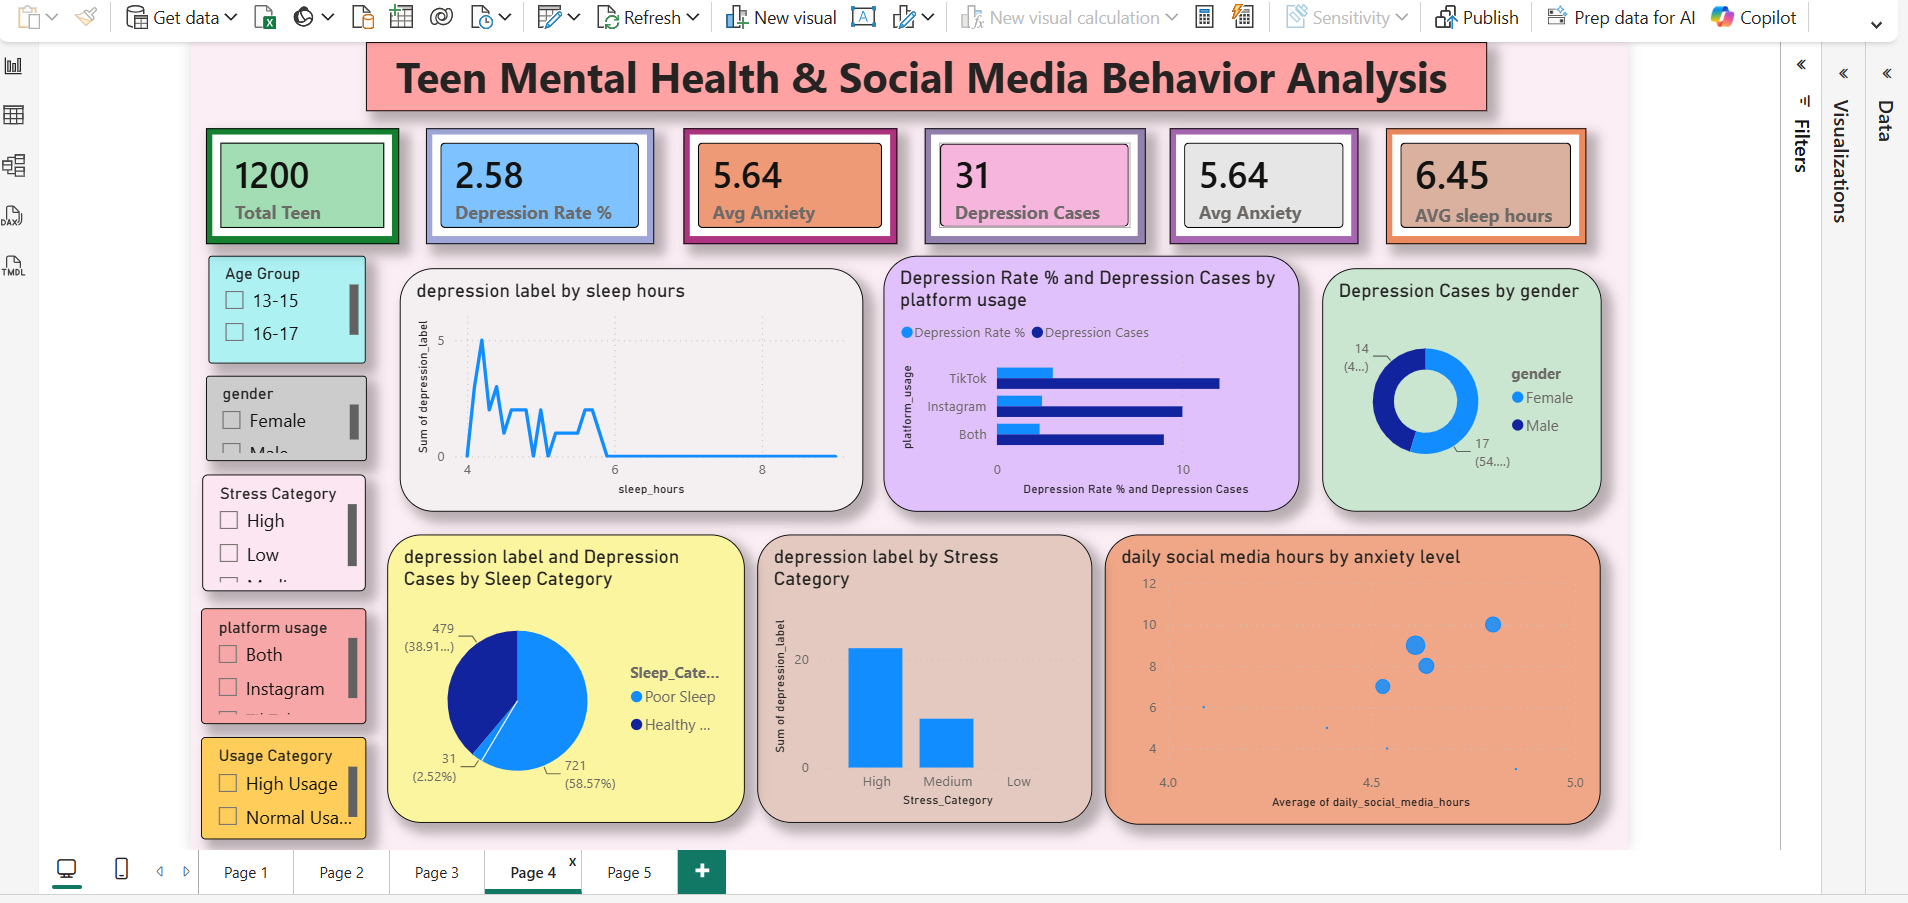

The dashboard page shown, as its layout file describes it:
{"tool":"powerbi","page":{"name":"Page 4","canvas":[1280,720],"ordinal":3},"visuals":[{"type":"cardVisual","fields":{"Data":["Teen_Mental_Health_Dataset.Total Teen"]},"box":[12.9,77.1,172.2,102.8],"z":0},{"type":"cardVisual","fields":{"Data":["Teen_Mental_Health_Dataset.Avg Anxiety"]},"box":[438.3,77.1,190.2,102.8],"z":1000},{"type":"cardVisual","fields":{"Data":["Teen_Mental_Health_Dataset.AVG sleep hours"]},"box":[1064.3,77.1,178.7,102.8],"z":2000},{"type":"cardVisual","fields":{"Data":["Teen_Mental_Health_Dataset.Avg Anxiety"]},"box":[871.5,77.1,168.4,102.8],"z":3000},{"type":"cardVisual","fields":{"Data":["Teen_Mental_Health_Dataset.Depression Rate %"]},"box":[209.5,77.1,203.1,102.8],"z":4000},{"type":"cardVisual","fields":{"Data":["Teen_Mental_Health_Dataset.Depression Cases"]},"box":[653,77.1,196.7,102.8],"z":5000},{"type":"slicer","fields":{"Values":["Teen_Mental_Health_Dataset.Age_Group"]},"box":[15.7,190,140,95.7],"z":6000},{"type":"slicer","fields":{"Values":["Teen_Mental_Health_Dataset.gender"]},"box":[12.9,297.1,142.9,75.7],"z":7000},{"type":"slicer","fields":{"Values":["Teen_Mental_Health_Dataset.Stress_Category"]},"box":[10,385.7,145.7,104.3],"z":8000},{"type":"slicer","fields":{"Values":["Teen_Mental_Health_Dataset.platform_usage"]},"box":[8.6,504.3,147.1,102.9],"z":9000},{"type":"pieChart","title":" depression label and Depression Cases by Sleep Category","fields":{"Category":["Teen_Mental_Health_Dataset.Sleep_Category"],"Y":["CountNonNull(Teen_Mental_Health_Dataset.depression_label)","Teen_Mental_Health_Dataset.Depression Cases"]},"box":[174.3,438.6,318.6,257.1],"z":10000},{"type":"scatterChart","title":"daily social media hours by anxiety level","fields":{"X":["Avg(Teen_Mental_Health_Dataset.daily_social_media_hours)"],"Size":["Sum(Teen_Mental_Health_Dataset.depression_label)"],"Y":["Teen_Mental_Health_Dataset.anxiety_level"]},"box":[814.3,438.6,441.4,258.6],"z":11000},{"type":"donutChart","fields":{"Y":["Teen_Mental_Health_Dataset.Depression Cases"],"Category":["Teen_Mental_Health_Dataset.gender"]},"box":[1007.1,201.4,248.6,217.1],"z":12000},{"type":"clusteredBarChart","title":"Depression Rate % and Depression Cases by platform usage","fields":{"Category":["Teen_Mental_Health_Dataset.platform_usage"],"Y":["Teen_Mental_Health_Dataset.Depression Rate %","Teen_Mental_Health_Dataset.Depression Cases"]},"box":[617.2,190.2,370.6,228.2],"z":13000},{"type":"lineChart","title":" depression label by sleep hours","fields":{"Category":["Teen_Mental_Health_Dataset.sleep_hours"],"Y":["Sum(Teen_Mental_Health_Dataset.depression_label)"]},"box":[185.7,201.4,412.9,217.1],"z":14000},{"type":"clusteredColumnChart","title":" depression label by Stress Category","fields":{"Y":["Sum(Teen_Mental_Health_Dataset.depression_label)"],"Category":["Teen_Mental_Health_Dataset.Stress_Category"]},"box":[504.3,438.6,298.6,257.1],"z":15000},{"type":"textbox","box":[155.7,0,998.6,61.4],"z":16000},{"type":"slicer","fields":{"Values":["Teen_Mental_Health_Dataset.Usage_Category"]},"box":[8.6,618.6,147.1,91.4],"z":17000}]}

Visuals, with their boxes on the page's 1280x720 design canvas (x1, y1, x2, y2). These are canvas units, not pixel positions in the 1908x903 screenshot, which may show the page scaled, cropped or inside an application window:
cardVisual - Teen_Mental_Health_Dataset.Total Teen: {"x1": 13, "y1": 77, "x2": 185, "y2": 180}
cardVisual - Teen_Mental_Health_Dataset.Avg Anxiety: {"x1": 438, "y1": 77, "x2": 628, "y2": 180}
cardVisual - Teen_Mental_Health_Dataset.AVG sleep hours: {"x1": 1064, "y1": 77, "x2": 1243, "y2": 180}
cardVisual - Teen_Mental_Health_Dataset.Avg Anxiety: {"x1": 872, "y1": 77, "x2": 1040, "y2": 180}
cardVisual - Teen_Mental_Health_Dataset.Depression Rate %: {"x1": 210, "y1": 77, "x2": 413, "y2": 180}
cardVisual - Teen_Mental_Health_Dataset.Depression Cases: {"x1": 653, "y1": 77, "x2": 850, "y2": 180}
slicer - Teen_Mental_Health_Dataset.Age_Group: {"x1": 16, "y1": 190, "x2": 156, "y2": 286}
slicer - Teen_Mental_Health_Dataset.gender: {"x1": 13, "y1": 297, "x2": 156, "y2": 373}
slicer - Teen_Mental_Health_Dataset.Stress_Category: {"x1": 10, "y1": 386, "x2": 156, "y2": 490}
slicer - Teen_Mental_Health_Dataset.platform_usage: {"x1": 9, "y1": 504, "x2": 156, "y2": 607}
" depression label and Depression Cases by Sleep Category" pieChart: {"x1": 174, "y1": 439, "x2": 493, "y2": 696}
"daily social media hours by anxiety level" scatterChart: {"x1": 814, "y1": 439, "x2": 1256, "y2": 697}
donutChart - Teen_Mental_Health_Dataset.Depression Cases x Teen_Mental_Health_Dataset.gender: {"x1": 1007, "y1": 201, "x2": 1256, "y2": 418}
"Depression Rate % and Depression Cases by platform usage" clusteredBarChart: {"x1": 617, "y1": 190, "x2": 988, "y2": 418}
" depression label by sleep hours" lineChart: {"x1": 186, "y1": 201, "x2": 599, "y2": 418}
" depression label by Stress Category" clusteredColumnChart: {"x1": 504, "y1": 439, "x2": 803, "y2": 696}
textbox: {"x1": 156, "y1": 0, "x2": 1154, "y2": 61}
slicer - Teen_Mental_Health_Dataset.Usage_Category: {"x1": 9, "y1": 619, "x2": 156, "y2": 710}
